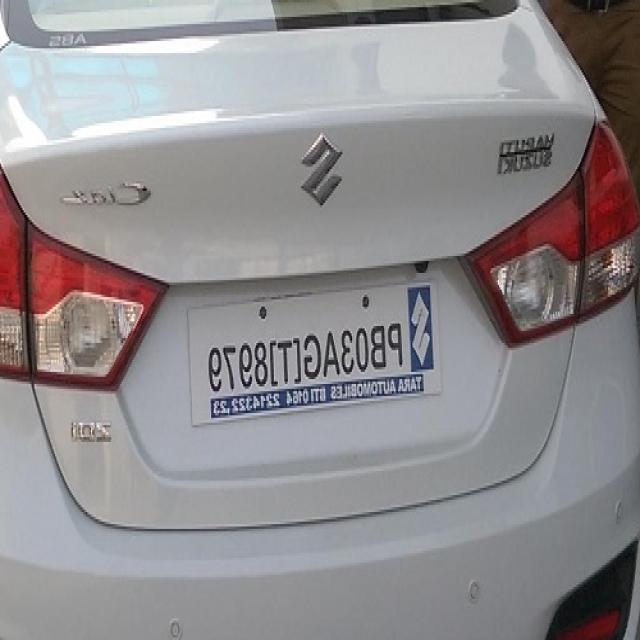number-plate: (184, 281, 438, 414)
